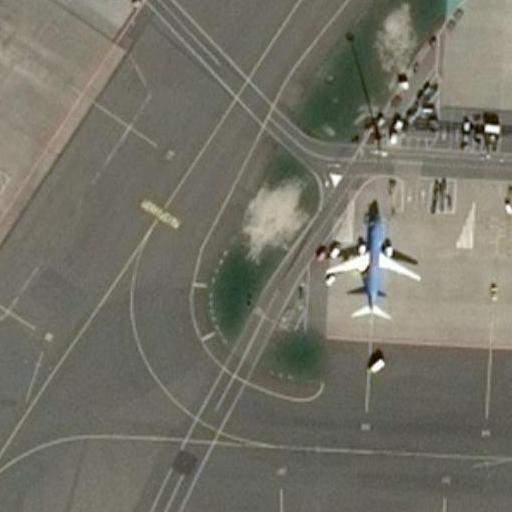Aircraft: (324, 198, 421, 322)
